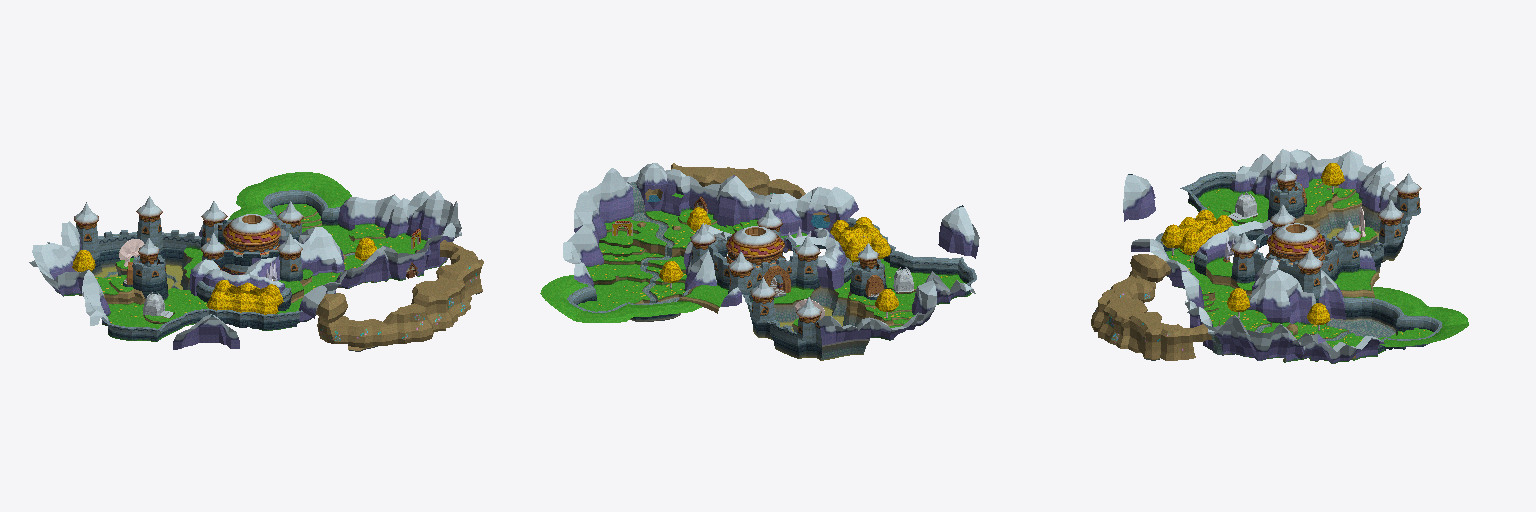
3 views of the same model, side by side, from view 1: azimuth 30°, elevation 25°; view 2: azimuth 150°, elevation 25°; view 3: azimuth 270°, elevation 25° (orthographic).
Visible parts, largest first — view 1: Terrain_Near_Region; view 2: Terrain_Near_Region; view 3: Terrain_Near_Region.
Boxes of the visible parts, x1=… form: Terrain_Near_Region: x1=29, y1=172, x2=483, y2=351; Terrain_Near_Region: x1=540, y1=163, x2=979, y2=360; Terrain_Near_Region: x1=1091, y1=149, x2=1468, y2=363.
Bounding box in the file's own units: 123 × 26 × 108.
1 materials, 1 textured.